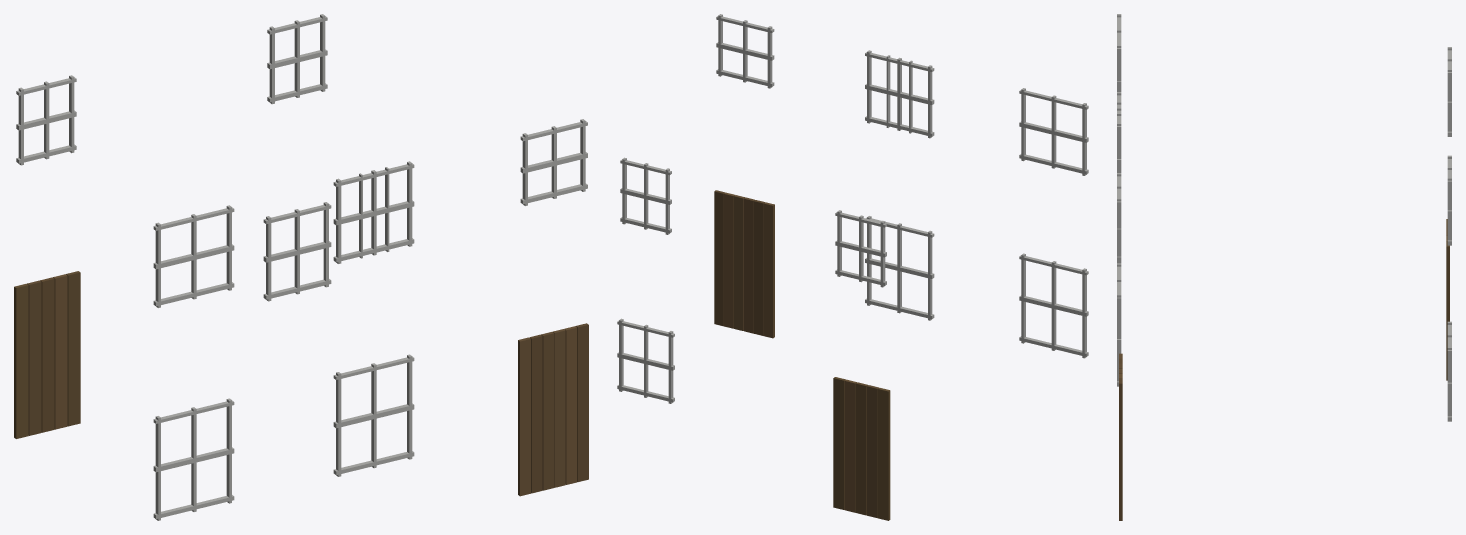
Rendered from SM_Bld_140_Wood.glb.
3 renders of one model, left to right at view 1: azimuth 30°, elevation 25°; view 2: azimuth 150°, elevation 25°; view 3: azimuth 270°, elevation 25°, orthographic. The views are drawn at different scales.
Visible parts, largest first — view 1: SM_Bld_140_Wood; view 2: SM_Bld_140_Wood; view 3: SM_Bld_140_Wood.
Part boxes in pixels (x1,y1,x2,y2): SM_Bld_140_Wood: (14,14,588,520); SM_Bld_140_Wood: (617,14,1088,520); SM_Bld_140_Wood: (1117,14,1451,520).
Size of the model in its own units: 6.01 by 4.77 by 4.53.
